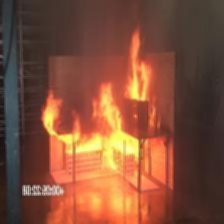fire: (44, 6, 179, 199)
